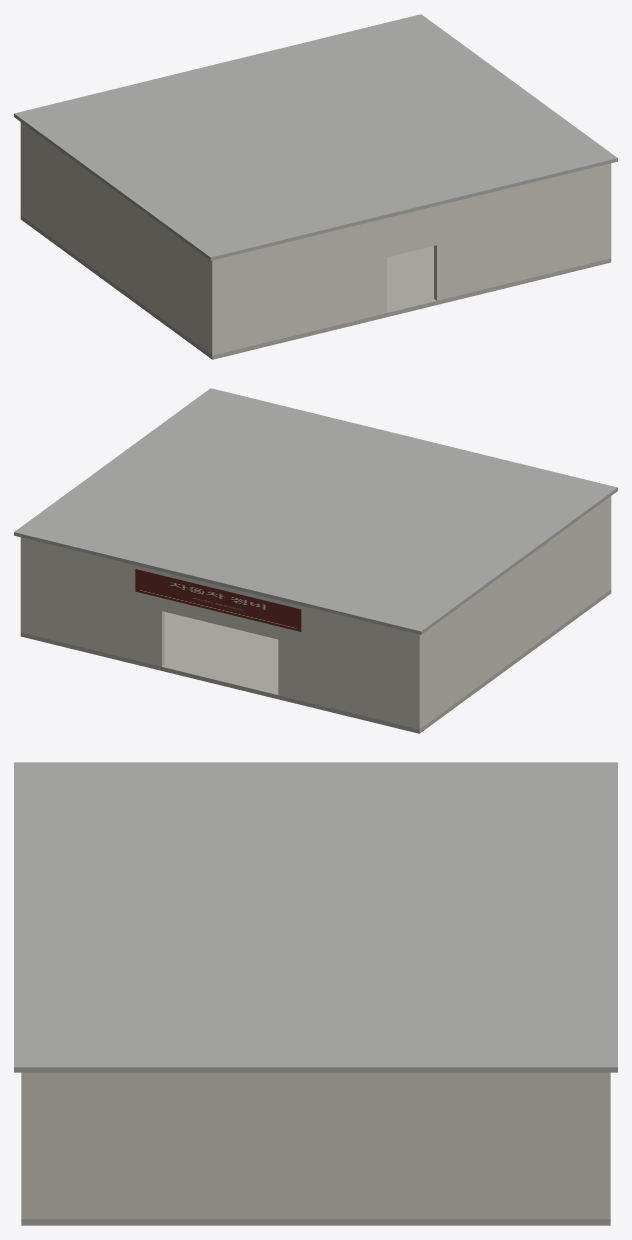
File: auto_workshop.glb
The picture shows the model from 3 angles, top to bottom: view 1: azimuth 30°, elevation 25°; view 2: azimuth 150°, elevation 25°; view 3: azimuth 270°, elevation 25°; orthographic projection. The views are drawn at different scales.
Parts seen in each view (by area): view 1: auto_workshop; view 2: auto_workshop; view 3: auto_workshop.
Boxes of the visible parts, left/top/right/bottom form: auto_workshop: left=14, top=14, right=617, bottom=359; auto_workshop: left=14, top=388, right=617, bottom=733; auto_workshop: left=14, top=762, right=617, bottom=1225.
Size of the model in its own units: 24.5 by 6.04 by 20.5.
Materials: 7 (1 with a texture image).
